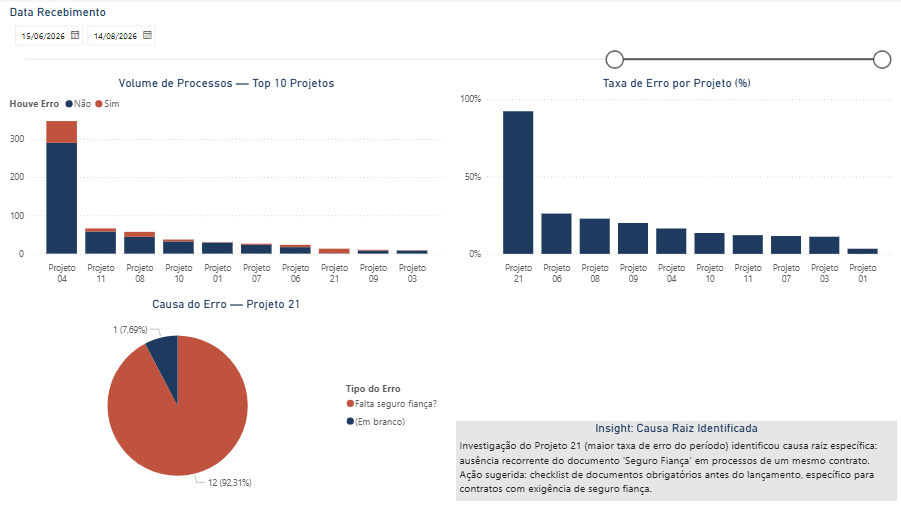

Layout of this report page (visuals, bound fields, positions):
{"tool":"powerbi","page":{"name":"Análise por Projeto","canvas":[1280,720],"ordinal":1},"visuals":[{"type":"slicer","title":"Data Recebimento","fields":{"Values":["Notas_Faturas.Data Recebimento"]},"box":[11.3,9.9,1257.9,100.2],"z":0},{"type":"columnChart","title":"Volume de Processos — Top 10 Projetos","fields":{"Category":["Notas_Faturas.Projeto"],"Series":["Notas_Faturas.Houve Erro"],"Y":["CountNonNull(Notas_Faturas.Processo)"]},"box":[11.3,110.1,622.6,302.1],"z":1000},{"type":"columnChart","title":"Taxa de Erro por Projeto (%)","fields":{"Category":["Notas_Faturas.Projeto"],"Y":["Notas_Faturas.Taxa de Erro %"]},"box":[646.6,110.1,622.6,302.1],"z":2000},{"type":"textbox","title":"Insight: Causa Raiz Identificada","box":[646.6,597.2,622.6,112.9],"z":3000},{"type":"pieChart","title":"Causa do Erro — Projeto 21","fields":{"Category":["Notas_Faturas.Tipo do Erro"],"Y":["CountNonNull(Notas_Faturas.Processo)"]},"box":[11.3,422.1,622.6,288],"z":4000}]}

Visuals, with their boxes in screenshot pixels (x1, y1, x2, y2), scaled from the page's 1280x720 canvas onto the 901x506 screenshot:
"Data Recebimento" slicer: l=8, t=7, r=893, b=77
"Volume de Processos — Top 10 Projetos" columnChart: l=8, t=77, r=446, b=290
"Taxa de Erro por Projeto (%)" columnChart: l=455, t=77, r=893, b=290
"Insight: Causa Raiz Identificada" textbox: l=455, t=420, r=893, b=499
"Causa do Erro — Projeto 21" pieChart: l=8, t=297, r=446, b=499
